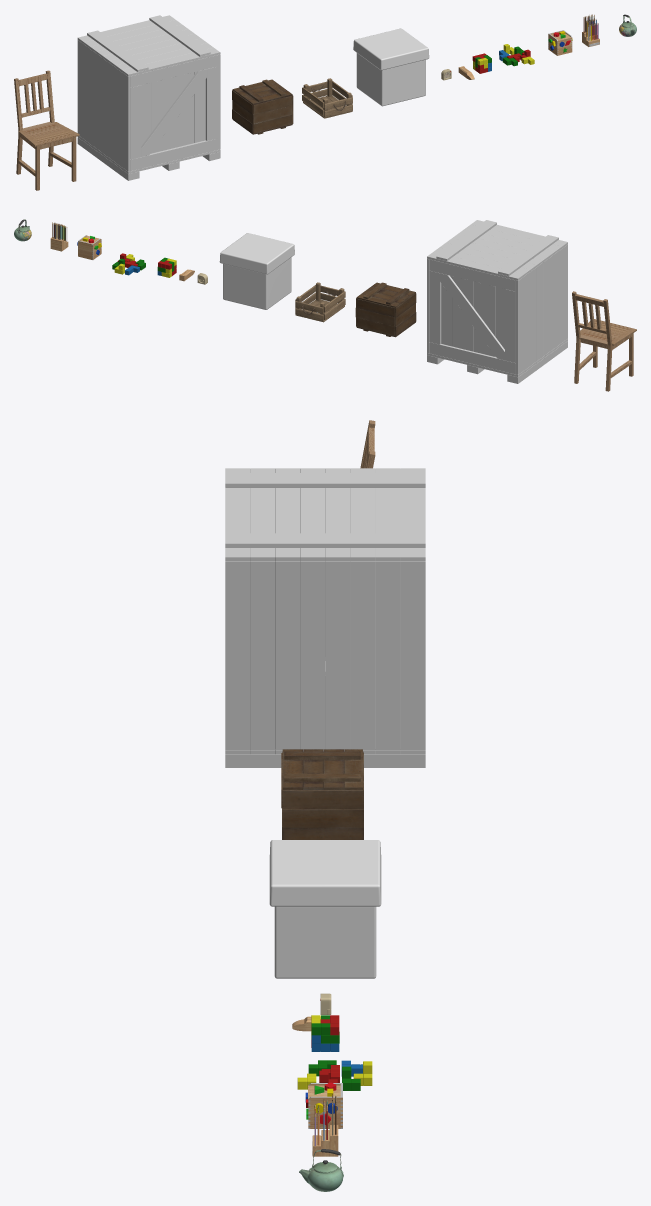
The model's file is Asset1.fbx.
3 renders of one model, top to bottom at view 1: azimuth 30°, elevation 25°; view 2: azimuth 150°, elevation 25°; view 3: azimuth 270°, elevation 25°, orthographic. The views are drawn at different scales.
Visible parts, largest first — view 1: wooden_crate_02, wooden_crate_lid_02, Cube.002, defaultMaterial.005, Cube.189, Cube.001, Woodencrate, Box, Kett.001; view 2: wooden_crate_02, wooden_crate_lid_02, Cube.002, defaultMaterial.005, Cube.189, Cube.001, Woodencrate, Box, Kett.001; view 3: wooden_crate_02, wooden_crate_lid_02, Cube.001, defaultMaterial.005, Cube.189, Kett.001.
Part boxes in pixels (x1,y1,x2,y2): wooden_crate_02: (77, 40, 220, 180); wooden_crate_lid_02: (77, 15, 220, 76); Cube.002: (14, 70, 79, 190); defaultMaterial.005: (232, 79, 293, 134); Cube.189: (356, 53, 425, 106); Cube.001: (353, 28, 429, 70); Woodencrate: (302, 78, 352, 118); Box: (548, 30, 572, 55); Kett.001: (619, 14, 636, 36); wooden_crate_02: (427, 244, 567, 383); wooden_crate_lid_02: (427, 220, 567, 280); Cube.002: (572, 291, 636, 391); defaultMaterial.005: (355, 282, 416, 337); Cube.189: (223, 257, 291, 309); Cube.001: (219, 233, 294, 274); Woodencrate: (295, 282, 345, 322); Box: (78, 235, 101, 259); Kett.001: (14, 219, 31, 241); wooden_crate_02: (225, 561, 425, 767); wooden_crate_lid_02: (225, 468, 425, 561); Cube.001: (269, 840, 381, 906); defaultMaterial.005: (281, 749, 363, 839); Cube.189: (274, 906, 376, 978); Kett.001: (299, 1149, 343, 1191).
Bounding box in the file's own units: 618 × 107 × 88.11.
